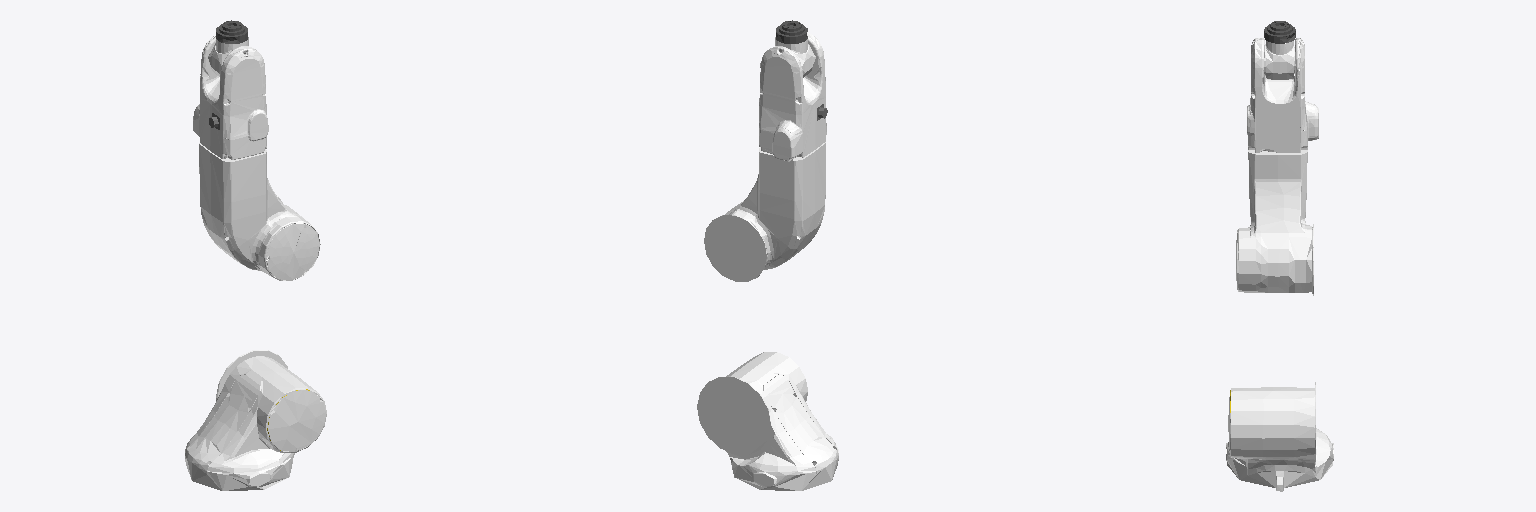
URDF robot description (add_post_pro_depowdering):
<?xml version="1.0" ?>
<!-- =================================================================================== -->
<!-- |    This document was autogenerated by xacro from [local-path]/depowdering_ws/src/add_post_pro2/depowdering_aman/urdf/depowdering_gripper_robot.urdf.xacro | -->
<!-- |    EDITING THIS FILE BY HAND IS NOT RECOMMENDED                                 | -->
<!-- =================================================================================== -->
<robot name="add_post_pro_depowdering">
    <transmission name="trans_1">
        <type>transmission_interface/SimpleTransmission</type>
        <joint name="joint_1">
            <hardwareInterface>hardware_interface/PositionJointInterface</hardwareInterface>
        </joint>
        <actuator name="motor_1">
            <hardwareInterface>hardware_interface/PositionJointInterface</hardwareInterface>
            <mechanicalReduction>1</mechanicalReduction>
        </actuator>
    </transmission>
    <transmission name="trans_2">
        <type>transmission_interface/SimpleTransmission</type>
        <joint name="joint_2">
            <hardwareInterface>hardware_interface/PositionJointInterface</hardwareInterface>
        </joint>
        <actuator name="motor_2">
            <hardwareInterface>hardware_interface/PositionJointInterface</hardwareInterface>
            <mechanicalReduction>1</mechanicalReduction>
        </actuator>
    </transmission>
    <transmission name="trans_3">
        <type>transmission_interface/SimpleTransmission</type>
        <joint name="joint_3">
            <hardwareInterface>hardware_interface/PositionJointInterface</hardwareInterface>
        </joint>
        <actuator name="motor_3">
            <hardwareInterface>hardware_interface/PositionJointInterface</hardwareInterface>
            <mechanicalReduction>1</mechanicalReduction>
        </actuator>
    </transmission>
    <transmission name="trans_4">
        <type>transmission_interface/SimpleTransmission</type>
        <joint name="joint_4">
            <hardwareInterface>hardware_interface/PositionJointInterface</hardwareInterface>
        </joint>
        <actuator name="motor_4">
            <hardwareInterface>hardware_interface/PositionJointInterface</hardwareInterface>
            <mechanicalReduction>1</mechanicalReduction>
        </actuator>
    </transmission>
    <transmission name="trans_5">
        <type>transmission_interface/SimpleTransmission</type>
        <joint name="joint_5">
            <hardwareInterface>hardware_interface/PositionJointInterface</hardwareInterface>
        </joint>
        <actuator name="motor_5">
            <hardwareInterface>hardware_interface/PositionJointInterface</hardwareInterface>
            <mechanicalReduction>1</mechanicalReduction>
        </actuator>
    </transmission>
    <transmission name="trans_6">
        <type>transmission_interface/SimpleTransmission</type>
        <joint name="joint_6">
            <hardwareInterface>hardware_interface/PositionJointInterface</hardwareInterface>
        </joint>
        <actuator name="motor_6">
            <hardwareInterface>hardware_interface/PositionJointInterface</hardwareInterface>
            <mechanicalReduction>1</mechanicalReduction>
        </actuator>
    </transmission>
    <gazebo>
        <plugin filename="libgazebo_ros_control.so" name="gazebo_ros_control">
            <robotNamespace>/vs6577</robotNamespace>
            <legacyModeNS>true</legacyModeNS>
        </plugin>
    </gazebo>
    <link name="world" />
    <joint name="joint_w" type="fixed">
        <parent link="world" />
        <child link="base_link" />
        <origin xyz="0 0 0" />
    </joint>
    <link name="base_link">
        <visual>
            <origin rpy="0 0 0" xyz="0 0 0" />
            <geometry>
                <mesh filename="package://denso_robot_descriptions/vs6577_description/meshes/base_link.dae" scale="1 1 1" />
            </geometry>
        </visual>
        <collision>
            <origin rpy="0 0 0" xyz="0 0 0" />
            <geometry>
                <mesh filename="package://denso_robot_descriptions/vs6577_description/meshes/base_link.dae" scale="1 1 1" />
            </geometry>
        </collision>
        <inertial>
            <mass value="1" />
            <origin rpy="0.000000 0.000000 0.000000" xyz="0.000000 0.000000 0.000000" />
            <inertia ixx="1" ixy="0" ixz="0" iyy="1" iyz="0" izz="1" />
        </inertial>
    </link>
    <link name="J1">
        <visual>
            <origin rpy="0 0 0" xyz="0 0 0" />
            <geometry>
                <mesh filename="package://denso_robot_descriptions/vs6577_description/meshes/J1.dae" scale="1 1 1" />
            </geometry>
        </visual>
        <collision>
            <origin rpy="0 0 0" xyz="0 0 0" />
            <geometry>
                <mesh filename="package://denso_robot_descriptions/vs6577_description/meshes/J1.dae" scale="1 1 1" />
            </geometry>
        </collision>
        <inertial>
            <mass value="1" />
            <origin rpy="0.000000 0.000000 0.000000" xyz="0.000000 0.000000 0.000000" />
            <inertia ixx="1" ixy="0" ixz="0" iyy="1" iyz="0" izz="1" />
        </inertial>
    </link>
    <link name="J2">
        <visual>
            <origin rpy="0 0 0" xyz="0 0 0" />
            <geometry>
                <mesh filename="package://denso_robot_descriptions/vs6577_description/meshes/J2.dae" scale="1 1 1" />
            </geometry>
        </visual>
        <collision>
            <origin rpy="0 0 0" xyz="0 0 0" />
            <geometry>
                <mesh filename="package://denso_robot_descriptions/vs6577_description/meshes/J2.dae" scale="1 1 1" />
            </geometry>
        </collision>
        <inertial>
            <mass value="1" />
            <origin rpy="0.000000 0.000000 0.000000" xyz="0.000000 0.000000 0.000000" />
            <inertia ixx="1" ixy="0" ixz="0" iyy="1" iyz="0" izz="1" />
        </inertial>
    </link>
    <link name="J3">
        <visual>
            <origin rpy="0 0 0" xyz="0 0 0" />
            <geometry>
                <mesh filename="package://denso_robot_descriptions/vs6577_description/meshes/J3.dae" scale="1 1 1" />
            </geometry>
        </visual>
        <collision>
            <origin rpy="0 0 0" xyz="0 0 0" />
            <geometry>
                <mesh filename="package://denso_robot_descriptions/vs6577_description/meshes/J3.dae" scale="1 1 1" />
            </geometry>
        </collision>
        <inertial>
            <mass value="1" />
            <origin rpy="0.000000 0.000000 0.000000" xyz="0.000000 0.000000 0.000000" />
            <inertia ixx="1" ixy="0" ixz="0" iyy="1" iyz="0" izz="1" />
        </inertial>
    </link>
    <link name="J4">
        <visual>
            <origin rpy="0 0 0" xyz="0 0 0" />
            <geometry>
                <mesh filename="package://denso_robot_descriptions/vs6577_description/meshes/J4.dae" scale="1 1 1" />
            </geometry>
        </visual>
        <collision>
            <origin rpy="0 0 0" xyz="0 0 0" />
            <geometry>
                <mesh filename="package://denso_robot_descriptions/vs6577_description/meshes/J4.dae" scale="1 1 1" />
            </geometry>
        </collision>
        <inertial>
            <mass value="1" />
            <origin rpy="0.000000 0.000000 0.000000" xyz="0.000000 0.000000 0.000000" />
            <inertia ixx="1" ixy="0" ixz="0" iyy="1" iyz="0" izz="1" />
        </inertial>
    </link>
    <link name="J5">
        <visual>
            <origin rpy="0 0 0" xyz="0 0 0" />
            <geometry>
                <mesh filename="package://denso_robot_descriptions/vs6577_description/meshes/J5.dae" scale="1 1 1" />
            </geometry>
        </visual>
        <collision>
            <origin rpy="0 0 0" xyz="0 0 0" />
            <geometry>
                <mesh filename="package://denso_robot_descriptions/vs6577_description/meshes/J5.dae" scale="1 1 1" />
            </geometry>
        </collision>
        <inertial>
            <mass value="1" />
            <origin rpy="0.000000 0.000000 0.000000" xyz="0.000000 0.000000 0.000000" />
            <inertia ixx="1" ixy="0" ixz="0" iyy="1" iyz="0" izz="1" />
        </inertial>
    </link>
    <link name="J6">
        <visual>
            <origin rpy="0 0 0" xyz="0 0 0" />
            <geometry>
                <mesh filename="package://denso_robot_descriptions/vs6577_description/meshes/J6.dae" scale="1 1 1" />
            </geometry>
        </visual>
        <collision>
            <origin rpy="0 0 0" xyz="0 0 0" />
            <geometry>
                <mesh filename="package://denso_robot_descriptions/vs6577_description/meshes/J6.dae" scale="1 1 1" />
            </geometry>
        </collision>
        <inertial>
            <mass value="1" />
            <origin rpy="0.000000 0.000000 0.000000" xyz="0.000000 0.000000 0.000000" />
            <inertia ixx="1" ixy="0" ixz="0" iyy="1" iyz="0" izz="1" />
        </inertial>
    </link>
    <gazebo reference="base_link">
        <material>Gazebo/CoM</material>
    </gazebo>
    <gazebo reference="J1">
        <material>Gazebo/Gray</material>
    </gazebo>
    <gazebo reference="J2">
        <material>Gazebo/Gray</material>
    </gazebo>
    <gazebo reference="J3">
        <material>Gazebo/Gray</material>
    </gazebo>
    <gazebo reference="J4">
        <material>Gazebo/Gray</material>
    </gazebo>
    <gazebo reference="J5">
        <material>Gazebo/Gray</material>
    </gazebo>
    <gazebo reference="J6">
        <material>Gazebo/Gray</material>
    </gazebo>
    <gazebo>
        <gravity>False</gravity>
    </gazebo>
    <joint name="joint_1" type="revolute">
        <parent link="base_link" />
        <child link="J1" />
        <origin rpy="0.000000 0.000000 0.000000" xyz="0.000000 0.000000 0.000000" />
        <axis xyz="-0.000000 -0.000000 1.000000" />
        <limit effort="100" lower="-2.96706" upper="2.96706" velocity="1" />
        <dynamics damping="0" friction="0" />
    </joint>
    <joint name="joint_2" type="revolute">
        <parent link="J1" />
        <child link="J2" />
        <origin rpy="0.000000 0.000000 0.000000" xyz="0.075000 0.000000 0.335000" />
        <axis xyz="-0.000000 1.000000 -0.000000" />
        <limit effort="100" lower="-1.745329" upper="2.356194" velocity="1" />
        <dynamics damping="0" friction="0" />
    </joint>
    <joint name="joint_3" type="revolute">
        <parent link="J2" />
        <child link="J3" />
        <origin rpy="0.000000 0.000000 0.000000" xyz="0.000000 0.000000 0.365000" />
        <axis xyz="-0.000000 1.000000 -0.000000" />
        <limit effort="100" lower="-2.076942" upper="2.949606" velocity="1" />
        <dynamics damping="0" friction="0" />
    </joint>
    <joint name="joint_4" type="revolute">
        <parent link="J3" />
        <child link="J4" />
        <origin rpy="0.000000 0.000000 0.000000" xyz="-0.090000 0.000000 -0.700000" />
        <axis xyz="-0.000000 -0.000000 1.000000" />
        <limit effort="100" lower="-3.316126" upper="3.316126" velocity="1" />
        <dynamics damping="0" friction="0" />
    </joint>
    <joint name="joint_5" type="revolute">
        <parent link="J4" />
        <child link="J5" />
        <origin rpy="0.000000 0.000000 0.000000" xyz="0.000000 0.000000 1.105000" />
        <axis xyz="-0.000000 1.000000 -0.000000" />
        <limit effort="100" lower="-2.094395" upper="2.094395" velocity="1" />
        <dynamics damping="0" friction="0" />
    </joint>
    <joint name="joint_6" type="revolute">
        <parent link="J5" />
        <child link="J6" />
        <origin rpy="0.000000 0.000000 0.000000" xyz="0.000000 0.000000 0.080000" />
        <axis xyz="-0.000000 -0.000000 1.000000" />
        <limit effort="100" lower="-6.283185" upper="6.283185" velocity="1" />
        <dynamics damping="0" friction="0" />
    </joint>
    <!--########### adding the gripper ########### -->
    <link name="gripper_base_link">
        <inertial>
            <origin rpy="0 0 0" xyz="-0.019922 7.2898E-05 0.077395" />
            <mass value="1.3258" />
            <inertia ixx="0.0035252" ixy="2.2645E-06" ixz="-3.673E-05" iyy="0.0042085" iyz="-5.1365E-06" izz="0.0020359" />
        </inertial>
        <visual>
            <origin rpy="0 0 0" xyz="0 0 0" />
            <geometry>
                <mesh filename="package://add_post_pro_simulation/mesh/gripper_base_link.STL" />
            </geometry>
            <material name="">
                <color rgba="0.79216 0.81961 0.93333 1" />
            </material>
        </visual>
        <collision>
            <origin rpy="0 0 0" xyz="0 0 0" />
            <geometry>
                <mesh filename="package://add_post_pro_simulation/mesh/gripper_base_link.STL" />
            </geometry>
        </collision>
    </link>
    <link name="gripper_Link">
        <inertial>
            <origin rpy="0 0 0" xyz="-0.0195 0.00014702 0.002743" />
            <mass value="0.027698" />
            <inertia ixx="9.9675E-06" ixy="7.5503E-08" ixz="-2.2624E-07" iyy="2.0524E-05" iyz="1.7057E-09" izz="2.7839E-05" />
        </inertial>
        <visual>
            <origin rpy="0 0 0" xyz="0 0 0" />
            <geometry>
                <mesh filename="package://add_post_pro_simulation/mesh/gripper_Link.STL" />
            </geometry>
            <material name="">
                <color rgba="1 1 1 1" />
            </material>
        </visual>
        <collision>
            <origin rpy="0 0 0" xyz="0 0 0" />
            <geometry>
                <mesh filename="package://add_post_pro_simulation/mesh/gripper_Link.STL" />
            </geometry>
        </collision>
    </link>
    <joint name="gripper_base_Joint" type="fixed">
        <origin rpy="0 0 3.14" xyz="0 0 0.004" />
        <parent link="J6" />
        <child link="gripper_base_link" />
        <axis xyz="0 0 -1" />
    </joint>
    <joint name="gripper_Joint" type="prismatic">
        <origin rpy="0 0 0.0" xyz="0 0 0.02565" />
        <parent link="gripper_base_link" />
        <child link="gripper_Link" />
        <axis xyz="0 0 -1" />
        <limit effort="0" lower="0" upper="0.021" velocity="0" />
    </joint>
    <!--########### end of adding the gripper ########### -->
    <transmission name="trans_gripper_Joint">
        <type>transmission_interface/SimpleTransmission</type>
        <joint name="gripper_Joint">
            <hardwareInterface>hardware_interface/EffortJointInterface</hardwareInterface>
        </joint>
        <actuator name="gripper_Joint_motor">
            <hardwareInterface>hardware_interface/EffortJointInterface</hardwareInterface>
            <mechanicalReduction>1</mechanicalReduction>
        </actuator>
    </transmission>
</robot>

--- What the picture shows (computed from the rendered views, not written in the file) ---
Views: 3 orthographic renders of the robot side by side, from view 1: azimuth 30°, elevation 25°; view 2: azimuth 150°, elevation 25°; view 3: azimuth 270°, elevation 25°.
Robot: add_post_pro_depowdering — 10 links, 9 joints (6 revolute, 1 prismatic, 2 fixed); root link world; default pose: every joint at zero.
Links seen in each view (by area): view 1: J1, J3, J4, J5; view 2: J1, J3, J4, J5; view 3: J3, J1, J4, J5.
Link boxes in pixels (x1=…): J1: x1=185, y1=350, x2=326, y2=490; J3: x1=199, y1=143, x2=320, y2=280; J4: x1=193, y1=35, x2=268, y2=159; J5: x1=208, y1=24, x2=248, y2=76; J1: x1=697, y1=352, x2=838, y2=490; J3: x1=704, y1=142, x2=825, y2=281; J4: x1=759, y1=32, x2=827, y2=161; J5: x1=775, y1=24, x2=815, y2=77; J3: x1=1236, y1=150, x2=1313, y2=295; J1: x1=1226, y1=382, x2=1333, y2=491; J4: x1=1247, y1=38, x2=1318, y2=152; J5: x1=1264, y1=24, x2=1295, y2=79.
Bounding box of the posed robot: 0.2676 × 0.22 × 0.9801 m (x, y, z).
5 mesh visuals loaded from 9 distinct referenced files (5 Collada DAE); not drawn: 4 (reference not matched to a file when rendering).
